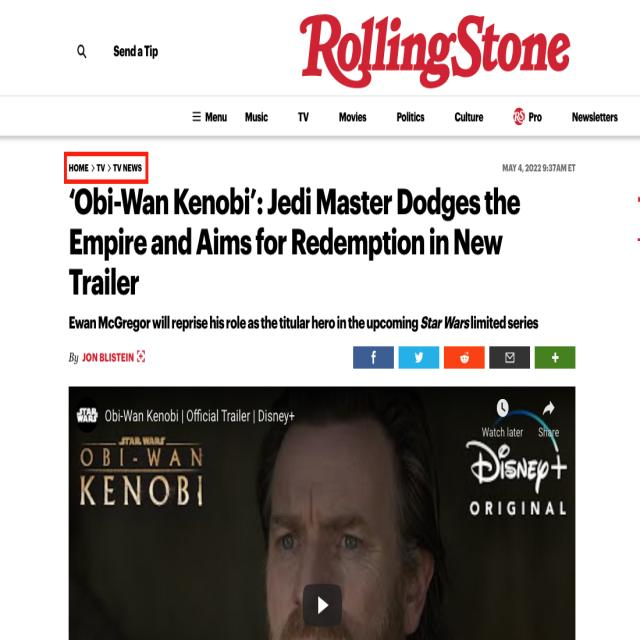Breadcrumb: (67, 155, 146, 177)
buttons: (352, 346, 394, 368), (447, 346, 482, 367), (402, 348, 438, 368), (570, 110, 618, 124), (491, 350, 526, 364), (338, 110, 368, 126), (192, 110, 226, 124), (516, 110, 544, 126), (452, 110, 483, 124), (396, 110, 426, 124), (242, 110, 270, 124), (542, 353, 568, 366), (73, 43, 89, 61), (298, 108, 308, 125)
text: (70, 182, 523, 290), (301, 7, 570, 91), (67, 311, 539, 330)
